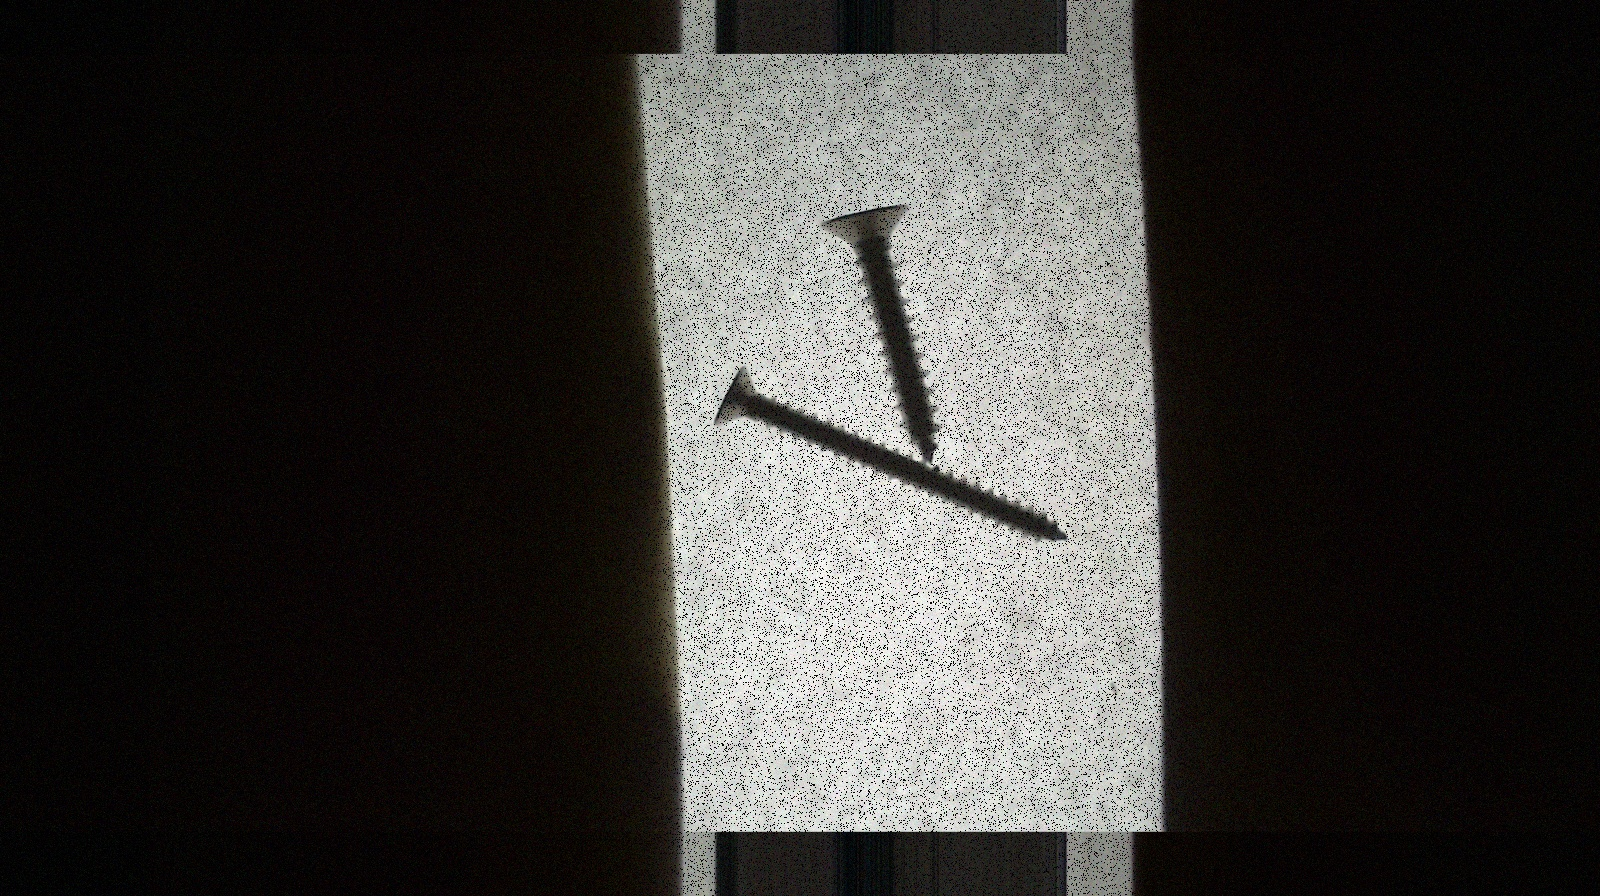S001: (816, 200, 952, 469)
S002: (705, 363, 1070, 546)
